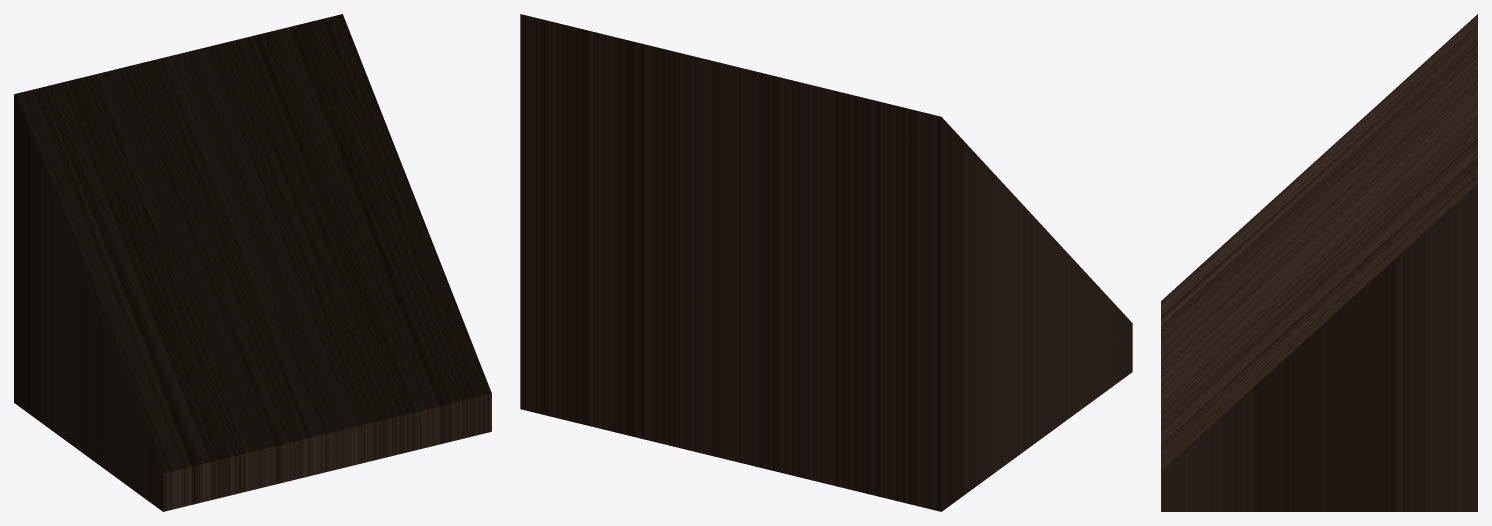
File: wedge_45.glb
3 views of the same model, side by side, from view 1: azimuth 30°, elevation 25°; view 2: azimuth 150°, elevation 25°; view 3: azimuth 270°, elevation 25° (orthographic). The views are drawn at different scales.
Parts seen in each view (by area): view 1: wedge_45; view 2: wedge_45; view 3: wedge_45.
Boxes of the visible parts, left/top/right/bottom form: wedge_45: left=14, top=14, right=491, bottom=511; wedge_45: left=520, top=14, right=1132, bottom=511; wedge_45: left=1161, top=14, right=1477, bottom=511.
Bounding box in the file's own units: 0.36 × 0.3228 × 0.2828.
1 material, 1 textured.
